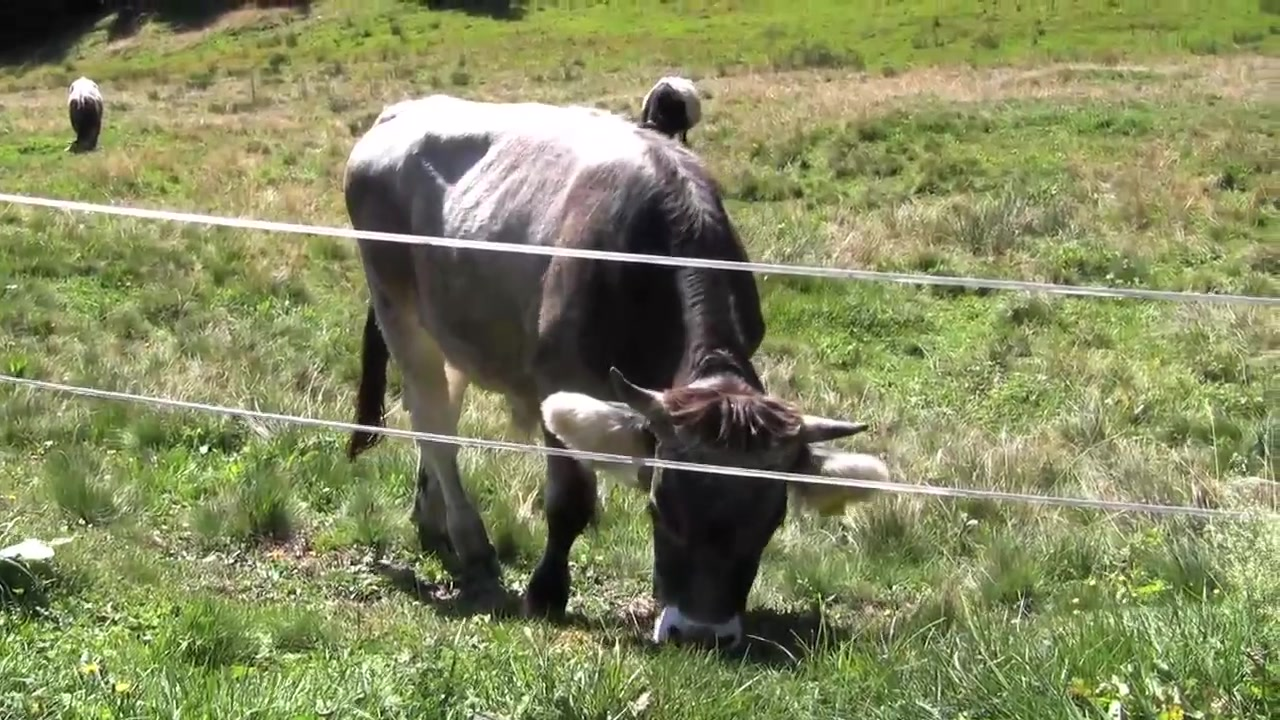cow: (346, 80, 893, 645)
